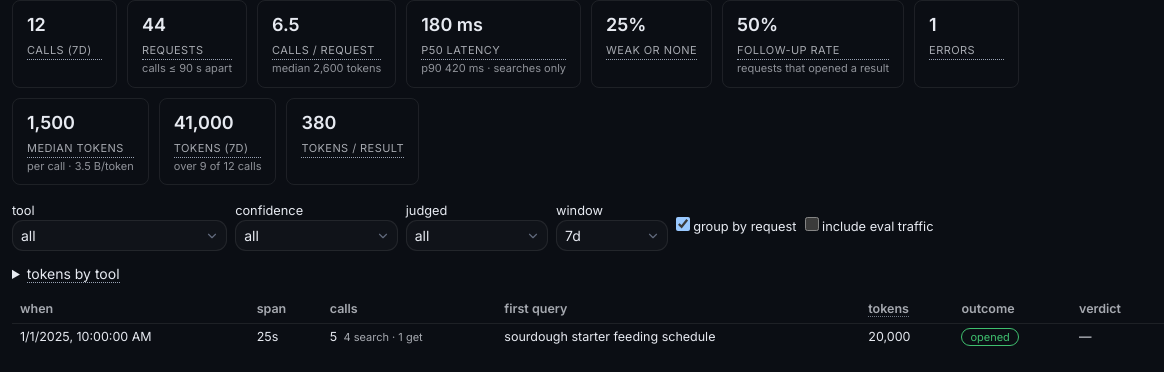
Test case: LiveTraces grouped by request › switches to the flat table when the toggle is turned off and remembers it
The image size is (1164, 372).
Expected: the text "sourdough starter feeding schedule" is shown, [496, 323, 860, 351]
Click the checkbox labelled "group by request": [682, 224] box [676, 216, 690, 230]
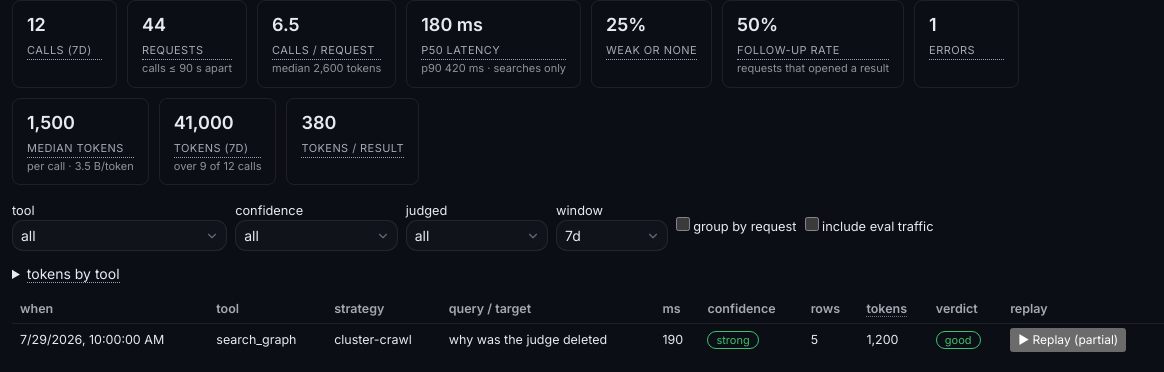
Expected: the text "why was the judge deleted" is shown, [441, 323, 654, 356]
